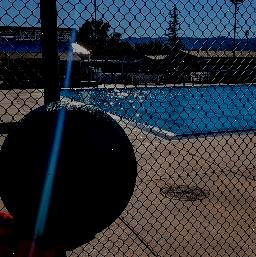algae: (2, 104, 138, 235)
